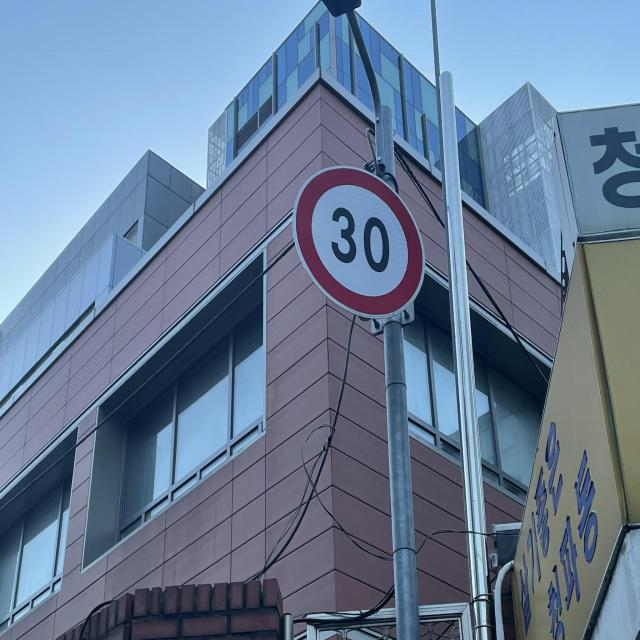traffic_sign: (294, 167, 423, 319)
